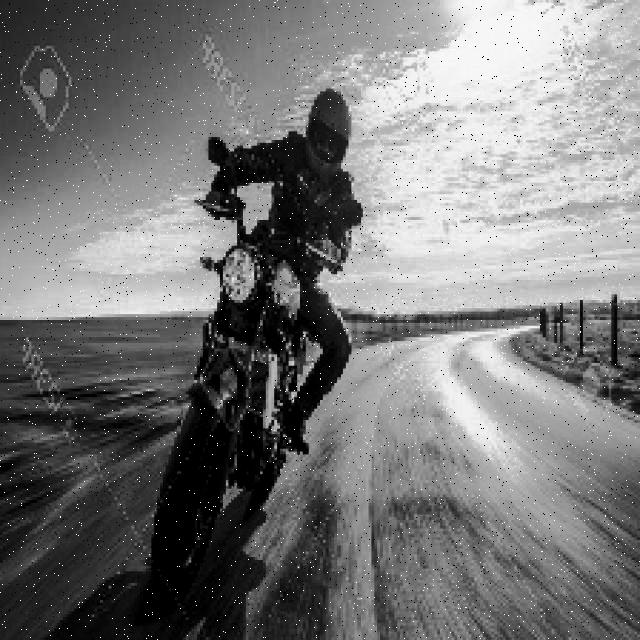Bike: (162, 220, 307, 622)
